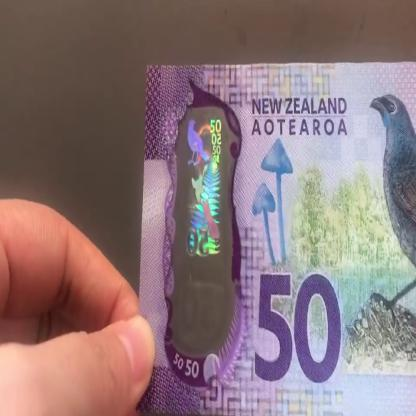50B: (180, 110, 230, 329)
